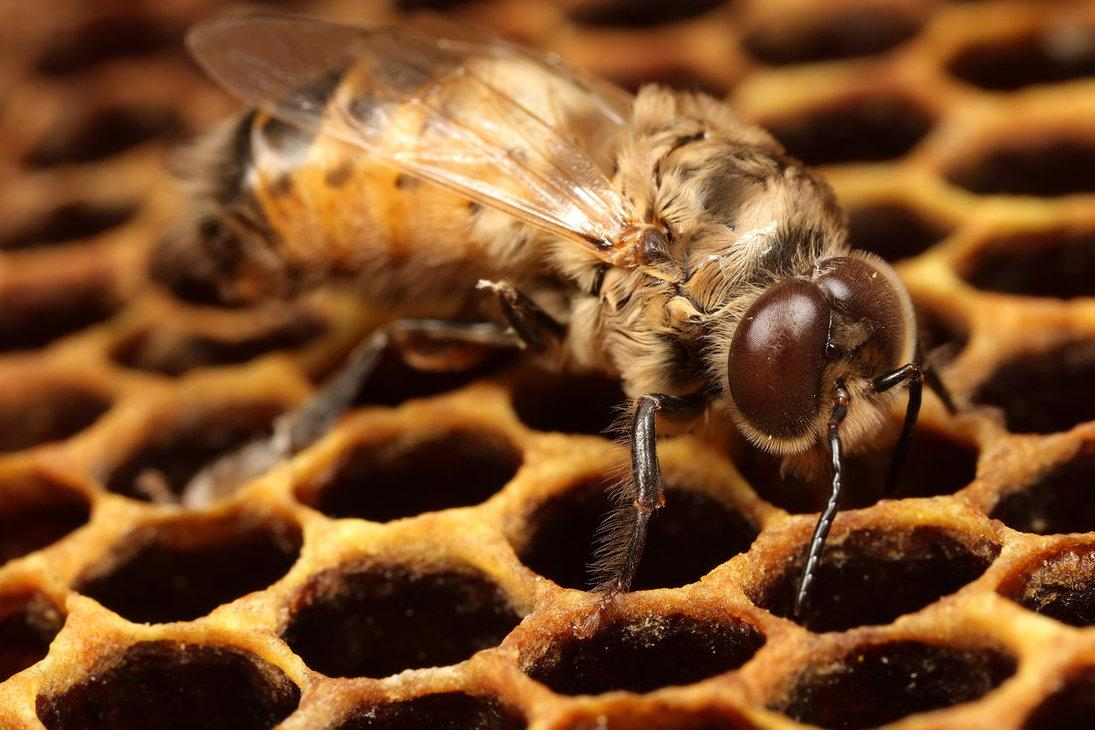drone: (195, 44, 899, 438)
